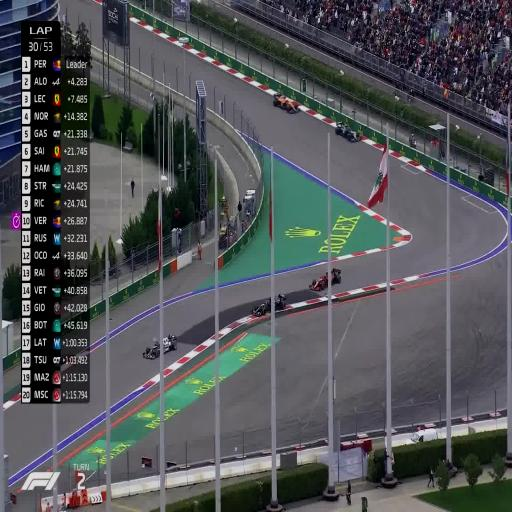f1_car: (273, 92, 298, 112), (335, 122, 361, 141), (251, 297, 271, 316), (143, 338, 160, 359), (309, 272, 328, 290), (163, 334, 177, 353), (275, 293, 286, 310), (331, 268, 341, 284)
